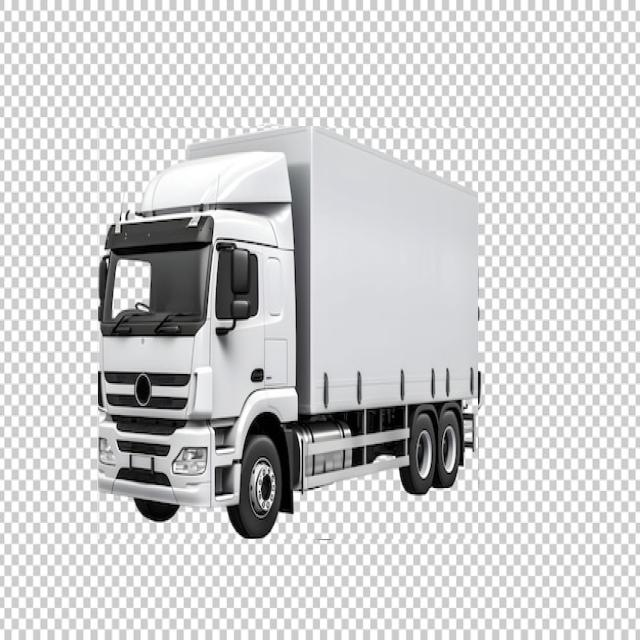truck: (99, 127, 478, 539)
